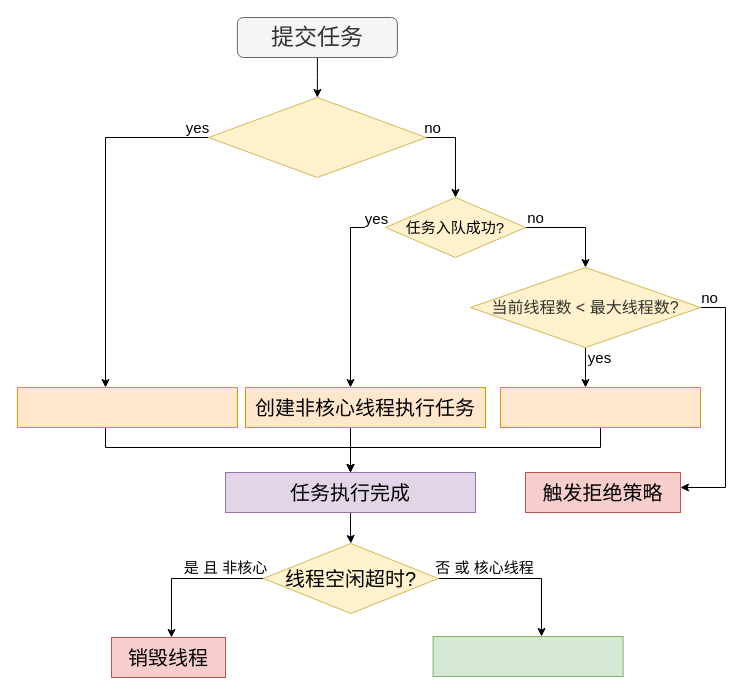
The diagram is 752 pixels wide and 695 high, and some of its shapes have lost their labels. The centre of each missing label's shape, as x and y in pixels:
"创建核心线程执行任务" belongs at point 126,407.
"当前线程数 < 核心线程数?" belongs at point 317,137.
"等待空闲线程取任务" belongs at point 600,407.
"继续等待新线程" belongs at point 527,656.
